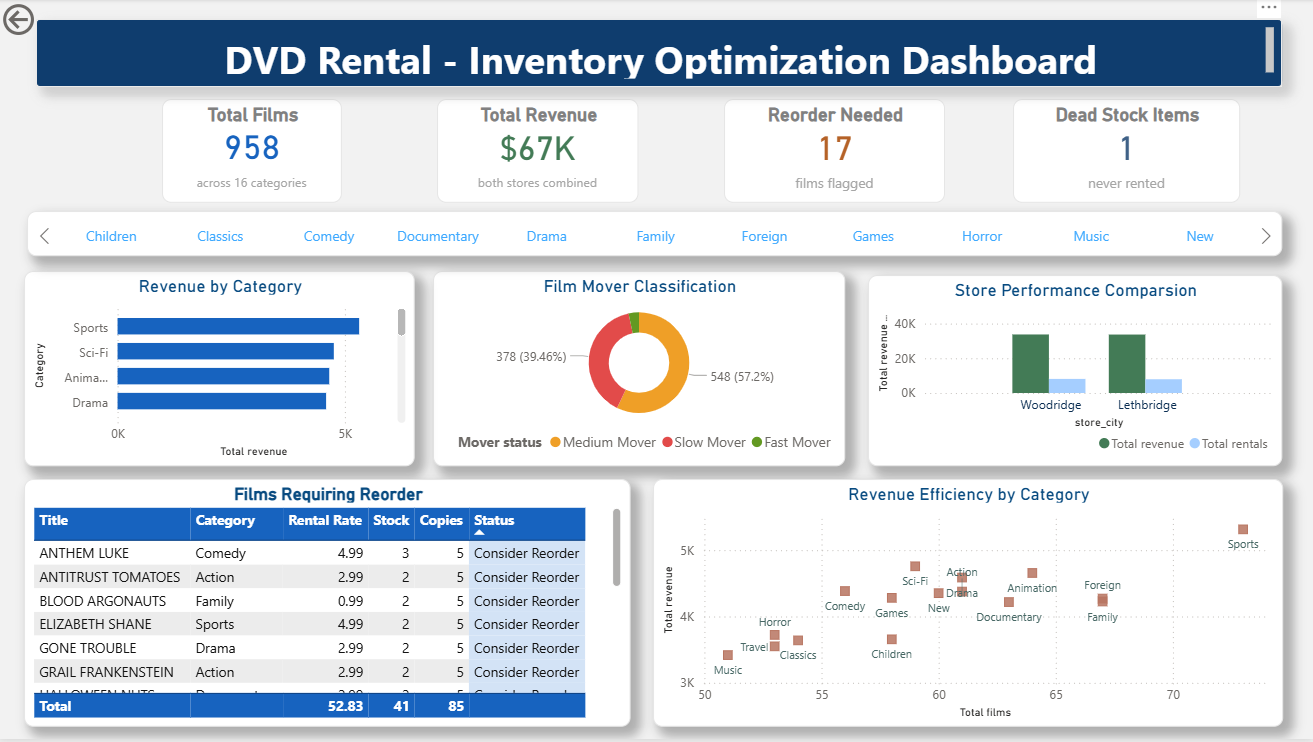

This screenshot's page, from the dashboard's own definition file:
{"tool":"powerbi","page":{"name":"Page 1","canvas":[1280,720],"ordinal":0},"visuals":[{"type":"advanceCardE03760C5AB684758B56AA29F9E6C257B","title":"Total Films","fields":{"mainMeasure":["Count(Q1_FilmMovers.title)"]},"box":[159.5,97.3,175.1,101.2],"z":0},{"type":"advanceCardE03760C5AB684758B56AA29F9E6C257B","title":"Total Revenue","fields":{"mainMeasure":["Sum(Q2_CategoryRevenue.total_revenue)"]},"box":[427,97.3,196.5,101.2],"z":1000},{"type":"advanceCardE03760C5AB684758B56AA29F9E6C257B","title":"Reorder Needed","fields":{"mainMeasure":["Count(Q4_Reorder.title)"]},"box":[706.1,97.3,215,101.2],"z":2000},{"type":"advanceCardE03760C5AB684758B56AA29F9E6C257B","title":"Dead Stock Items","fields":{"mainMeasure":["Count(Q3_DeadStock.title)"]},"box":[987.2,97.3,220.8,101.2],"z":3000},{"type":"donutChart","title":"Film Mover Classification","fields":{"Category":["Q1_FilmMovers.mover_status"],"Y":["Count(Q1_FilmMovers.title)"]},"box":[423.1,264.6,400.7,189.7],"z":4000},{"type":"clusteredBarChart","title":"Revenue by Category","fields":{"Category":["Q2_CategoryRevenue.category"],"Y":["Sum(Q2_CategoryRevenue.total_revenue)"]},"box":[25.3,264.6,380.3,189.7],"z":5000},{"type":"tableEx","title":"Films Requiring Reorder","fields":{"Values":["Q4_Reorder.title","Q4_Reorder.category","Sum(Q4_Reorder.rental_rate)","Sum(Q4_Reorder.copies_in_stock)","Sum(Q4_Reorder.rentals_per_copy)","Q4_Reorder.reorder_flag"]},"box":[25.3,466.9,590.4,241.2],"z":6000},{"type":"actionButton","box":[0,0,100,40],"z":7000},{"type":"clusteredColumnChart","title":"Store Performance Comparsion","fields":{"Category":["Q5_StoreComparsion.store_city"],"Y":["Sum(Q5_StoreComparsion.total_revenue)","Sum(Q5_StoreComparsion.total_rentals)"]},"box":[846.2,268.4,402.7,185.8],"z":8000},{"type":"scatterChart","title":"Revenue Efficiency by Category","fields":{"Category":["Q2_CategoryRevenue.category"],"X":["Sum(Q2_CategoryRevenue.total_films)"],"Y":["Sum(Q2_CategoryRevenue.total_revenue)"]},"box":[637.1,466.9,612.8,241.2],"z":9000},{"type":"slicer","title":"Category","fields":{"Values":["Q2_CategoryRevenue.category"]},"box":[28.2,206.2,1220.7,43.8],"z":10000},{"type":"textbox","box":[37,19.5,1211.9,66.1],"z":11000}]}

Visuals, with their boxes on the page's 1280x720 design canvas (x1, y1, x2, y2). These are canvas units, not pixel positions in the 1313x742 screenshot, which may show the page scaled, cropped or inside an application window:
"Total Films" advanceCardE03760C5AB684758B56AA29F9E6C257B: <region>160, 97, 335, 198</region>
"Total Revenue" advanceCardE03760C5AB684758B56AA29F9E6C257B: <region>427, 97, 624, 198</region>
"Reorder Needed" advanceCardE03760C5AB684758B56AA29F9E6C257B: <region>706, 97, 921, 198</region>
"Dead Stock Items" advanceCardE03760C5AB684758B56AA29F9E6C257B: <region>987, 97, 1208, 198</region>
"Film Mover Classification" donutChart: <region>423, 265, 824, 454</region>
"Revenue by Category" clusteredBarChart: <region>25, 265, 406, 454</region>
"Films Requiring Reorder" tableEx: <region>25, 467, 616, 708</region>
actionButton: <region>0, 0, 100, 40</region>
"Store Performance Comparsion" clusteredColumnChart: <region>846, 268, 1249, 454</region>
"Revenue Efficiency by Category" scatterChart: <region>637, 467, 1250, 708</region>
"Category" slicer: <region>28, 206, 1249, 250</region>
textbox: <region>37, 20, 1249, 86</region>
